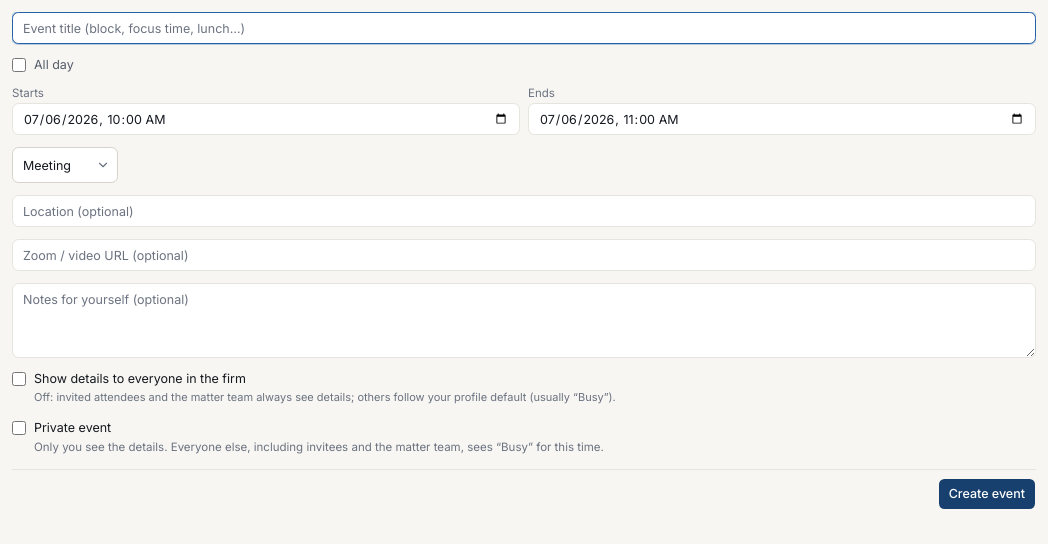
Test: NewEventComposer › a bad video link blocks the submit
In the field with placeholder "Event title (block, focus time, lunch…)": [524, 28] box [12,12,1036,44], type "Call"
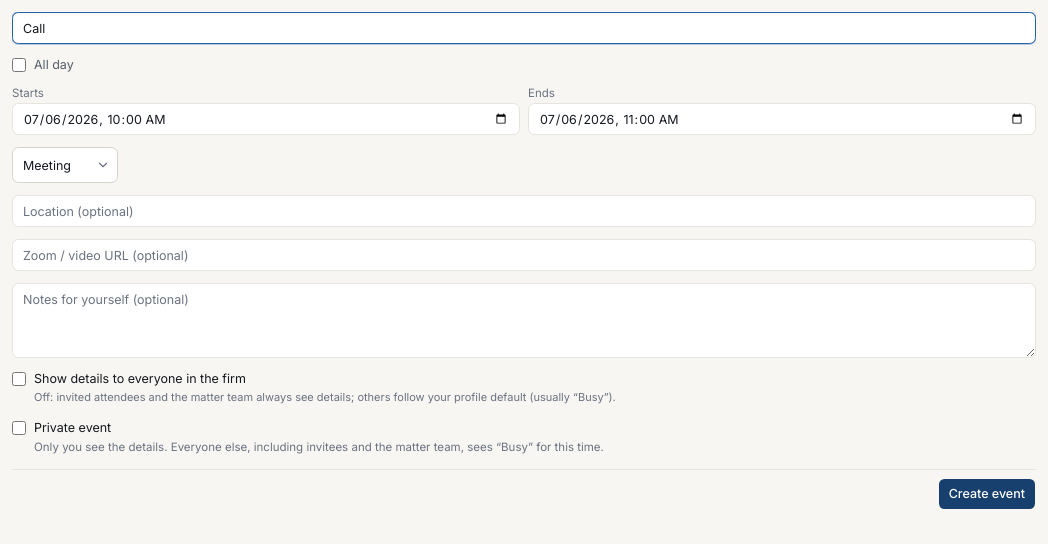
In the field with placeholder "Zoom / video URL (optional)": [524, 255] box [12,239,1036,271], type "not a link"
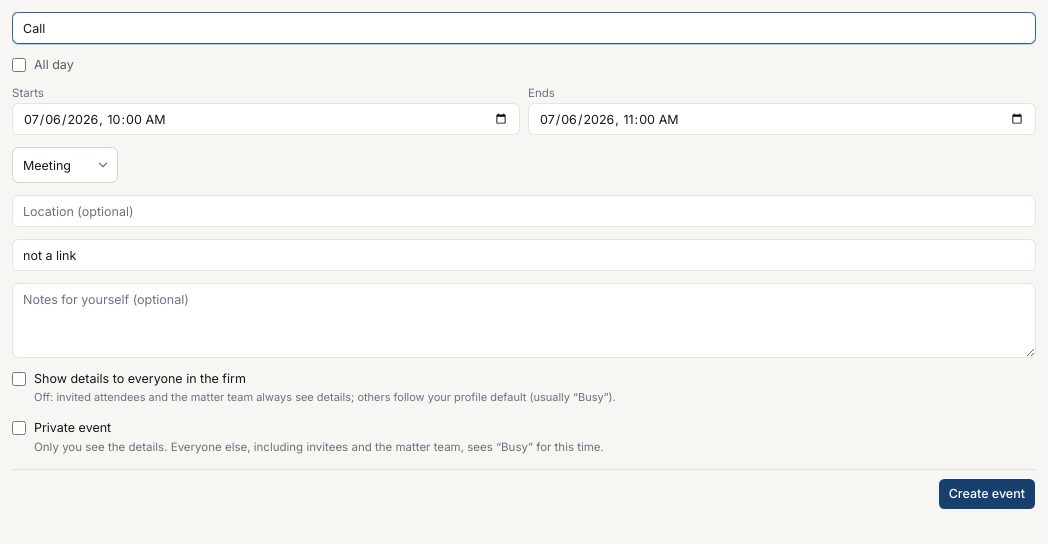
Submit the form named "create event"
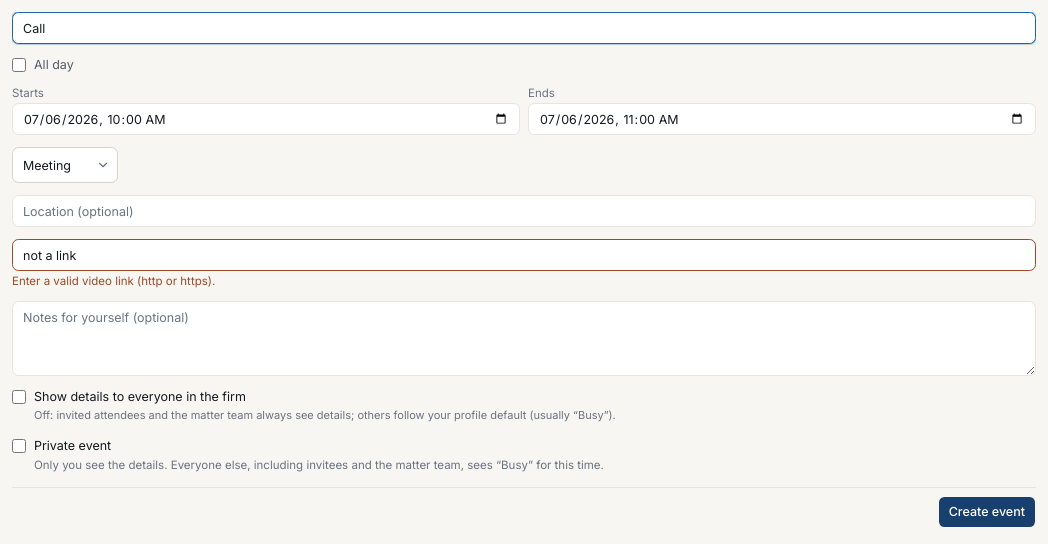
Expected: the text "Enter a valid video link (http or https)." is shown, [12,274,215,288]
